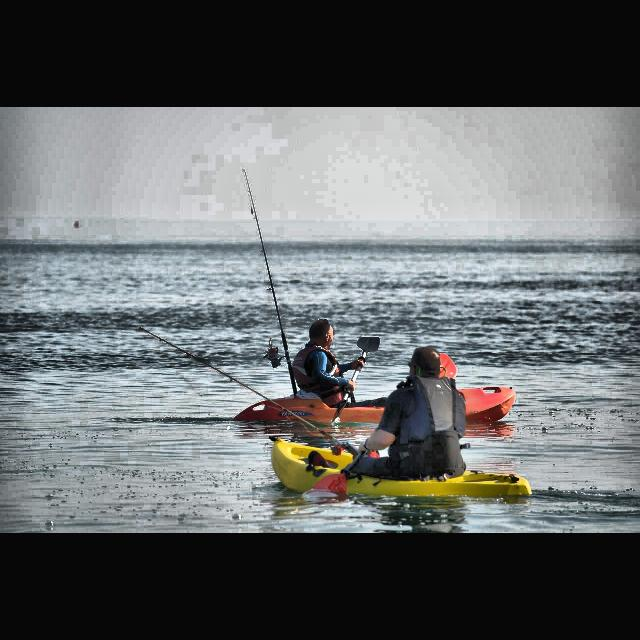kayak: (268, 435, 532, 497), (230, 385, 516, 425)
